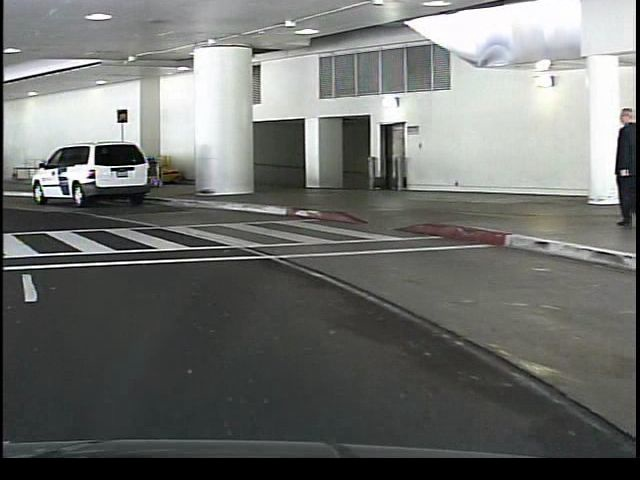person: (600, 107, 638, 229)
